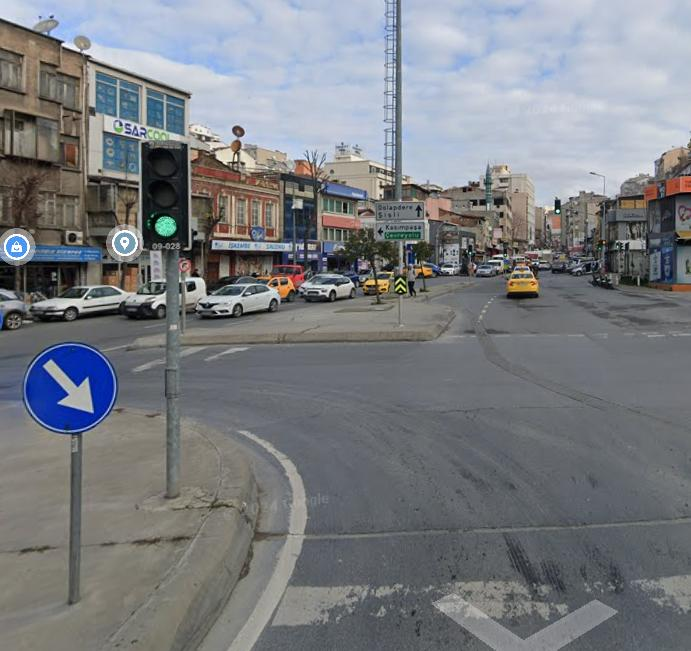greenlight: (143, 141, 188, 241)
